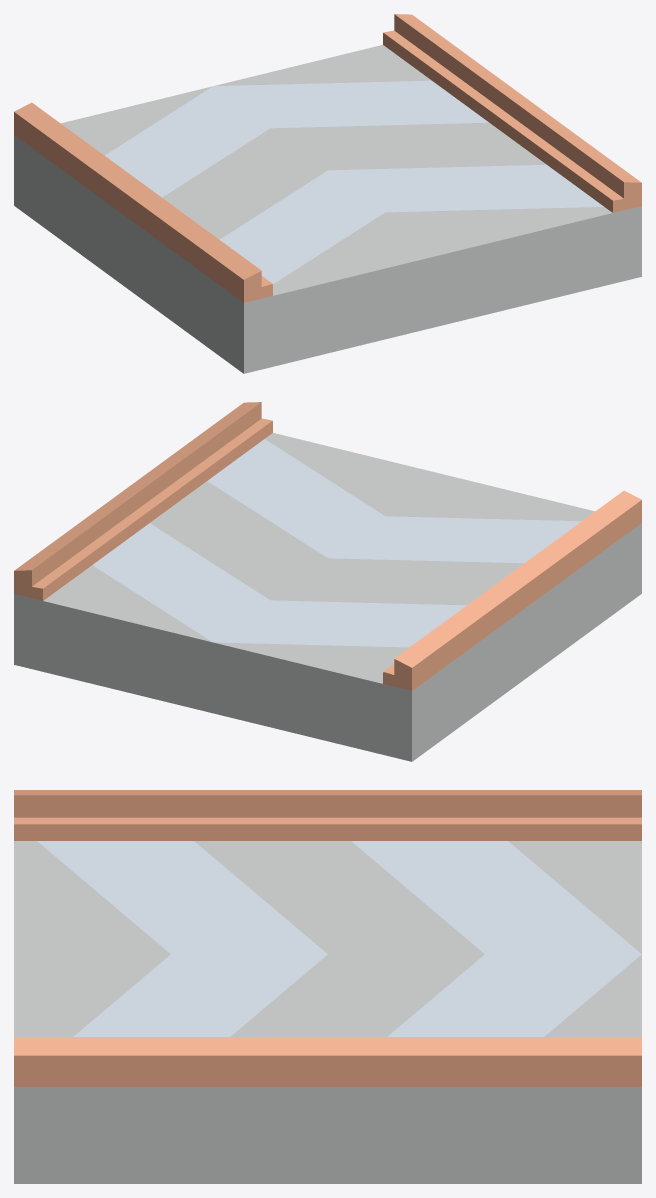
Rendered from Path (1).fbx.
3 renders of one model, top to bottom at view 1: azimuth 30°, elevation 25°; view 2: azimuth 150°, elevation 25°; view 3: azimuth 270°, elevation 25°, orthographic. The views are drawn at different scales.
Visible parts, largest first — view 1: Ground.001; view 2: Ground.001; view 3: Ground.001.
Boxes of the visible parts, x1,y1,x2,y2 form: Ground.001: (14, 14, 641, 373); Ground.001: (14, 402, 641, 761); Ground.001: (14, 790, 641, 1183).
Bounding box in the file's own units: 200 × 47.47 × 200.
